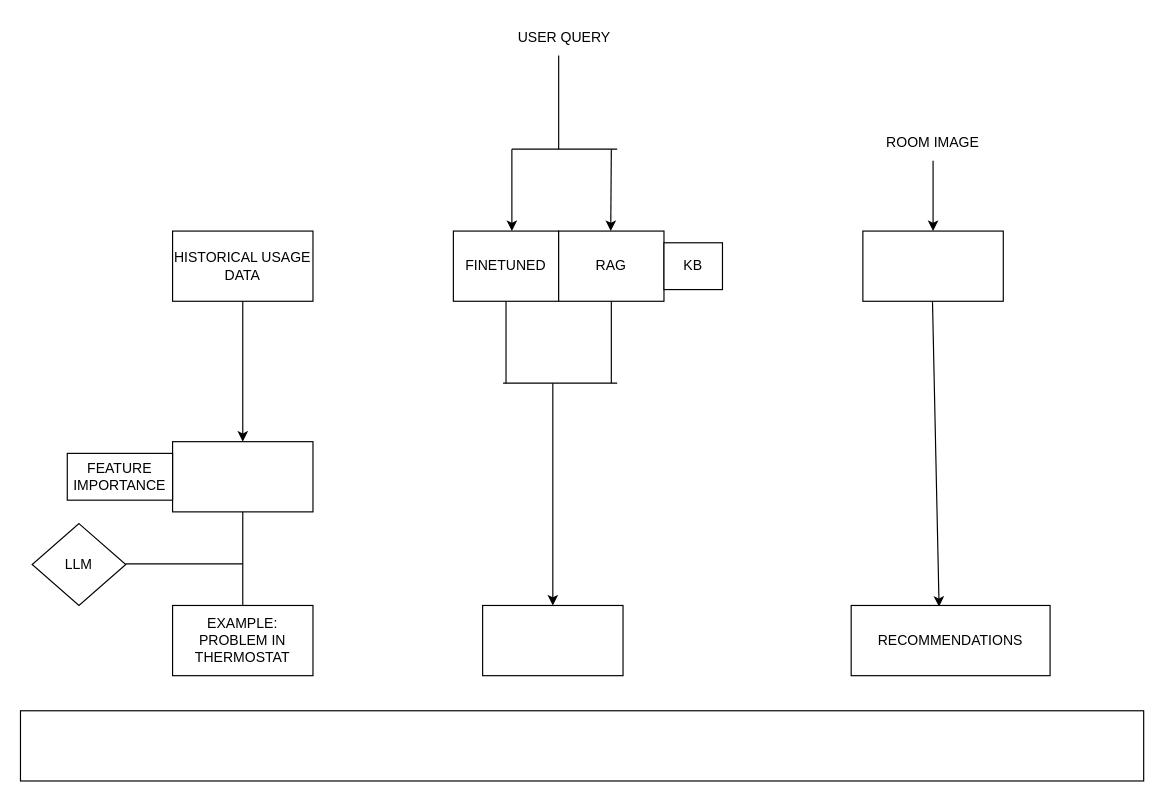
This 1164x801 diagram has some shape labels left out. Each missing label, with the centre of its shape:
"COMBINED LOCAL ANSWER" goes at point 552,640.
"FORECASTING MODEL" goes at point 242,476.
"MULTIMODAL LARGE MODEL" goes at point 932,265.
"SmartHome Savant: Optimizing Living Spaces with LLM Innovation" goes at point 581,745.
